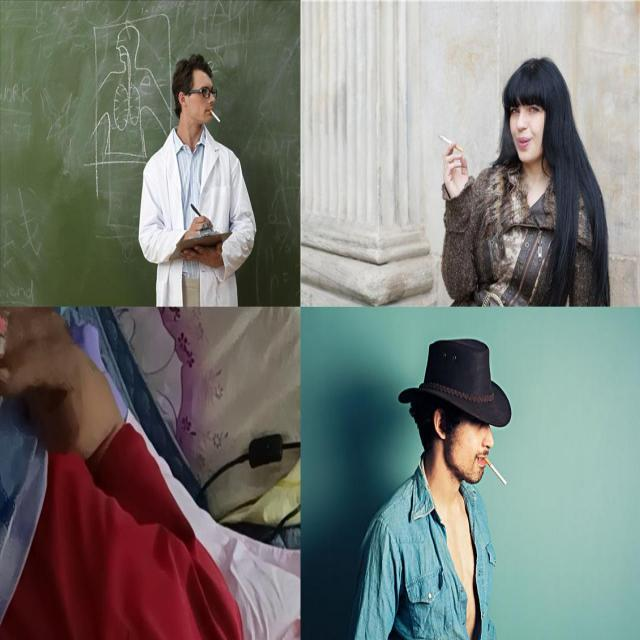smoking: (482, 453, 509, 487), (0, 316, 8, 414), (436, 130, 464, 156), (208, 108, 222, 124)
